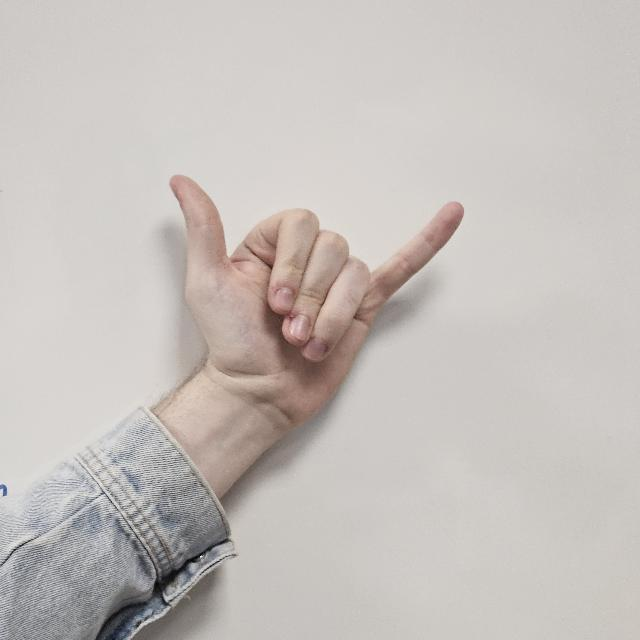Direita: (144, 138, 486, 458)
